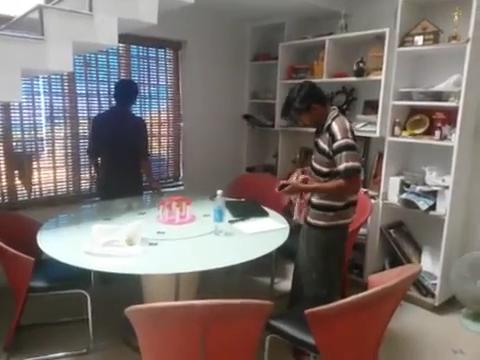chair: (263, 262, 423, 359), (1, 210, 95, 359), (269, 190, 372, 291), (123, 298, 275, 359), (221, 171, 293, 214)
closet_cabinet: (244, 1, 480, 306)
cup_glass_bottle: (158, 195, 196, 224)
floor: (1, 252, 480, 360), (1, 1, 195, 103)
paper_notebook: (224, 200, 287, 235)
person: (276, 80, 362, 316), (87, 78, 161, 199)
table_desk: (35, 190, 291, 354)
window: (1, 42, 180, 204)
